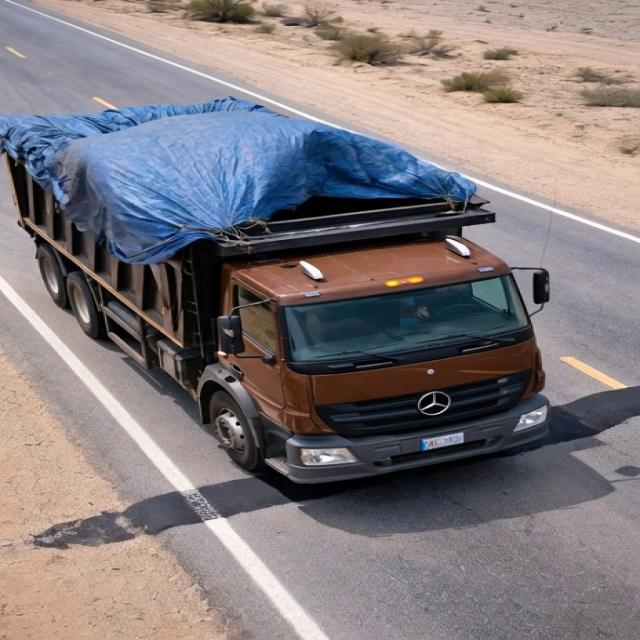trailer: (9, 96, 507, 255)
truck: (11, 74, 556, 494)
